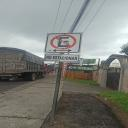NoEstacionar: (42, 32, 83, 54)
